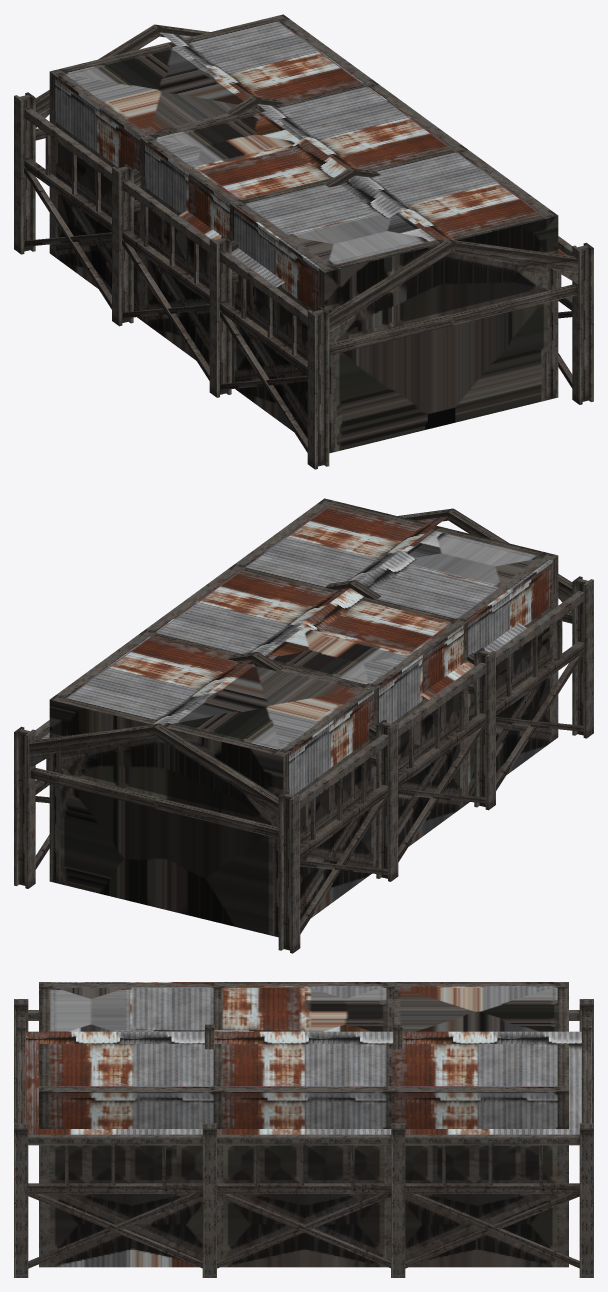
File: dz_industrial_07.fbx
3 renders of one model, top to bottom at view 1: azimuth 30°, elevation 25°; view 2: azimuth 150°, elevation 25°; view 3: azimuth 270°, elevation 25°, orthographic. The views are drawn at different scales.
Visible parts, largest first — view 1: dz_industrial_07_LOD0; view 2: dz_industrial_07_LOD0; view 3: dz_industrial_07_LOD0.
Boxes of the visible parts, x1,y1,x2,y2 form: dz_industrial_07_LOD0: (14, 14, 593, 469); dz_industrial_07_LOD0: (14, 498, 593, 953); dz_industrial_07_LOD0: (14, 982, 593, 1277).
Size of what is drawn, in the model's own units: 14.85 by 9.75 by 27.77.
2 materials, 2 textured.
